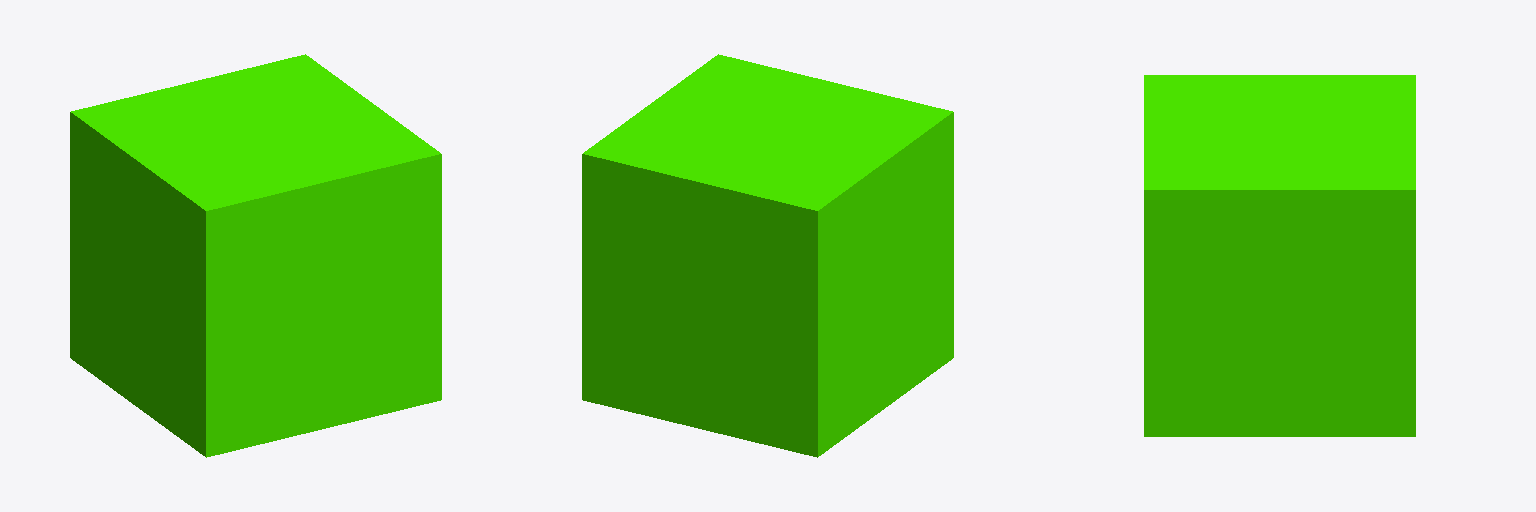
3 views of the same model, side by side, from view 1: azimuth 30°, elevation 25°; view 2: azimuth 150°, elevation 25°; view 3: azimuth 270°, elevation 25° (orthographic).
Visible parts, largest first — view 1: Cube; view 2: Cube; view 3: Cube.
Boxes of the visible parts, x1,y1,x2,y2 form: Cube: [70, 54, 441, 457]; Cube: [582, 54, 953, 457]; Cube: [1144, 75, 1415, 436].
Bounding box in the file's own units: 2 × 2 × 2.
Materials: 1 (1 with a texture image).